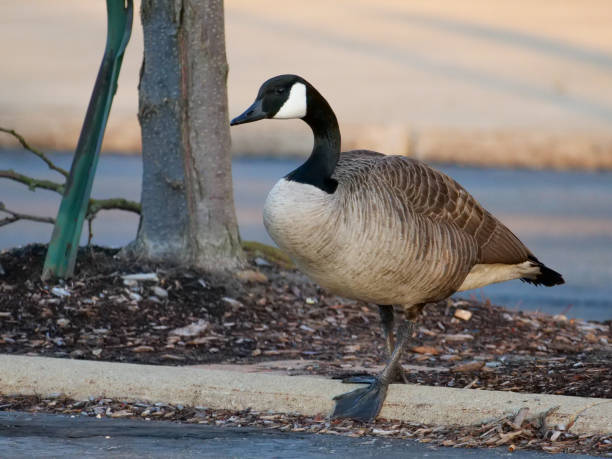goose: (227, 72, 569, 428)
